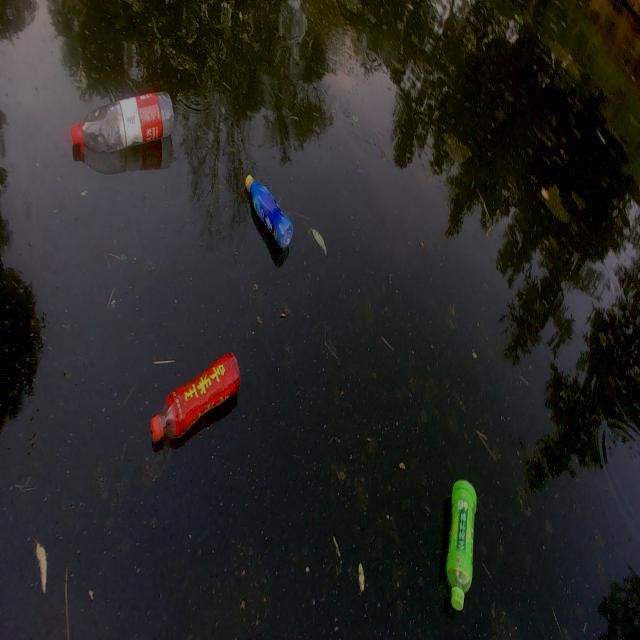bottle: (128, 318, 268, 471), (56, 67, 187, 184), (420, 462, 490, 620), (240, 164, 294, 258)
